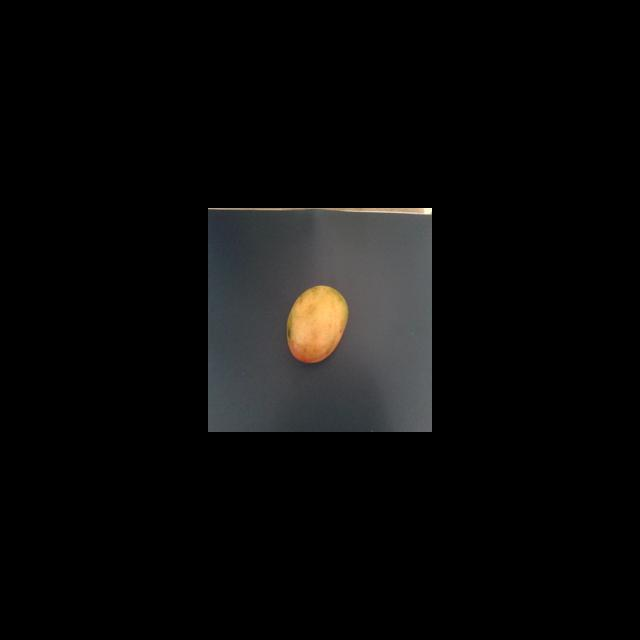Mango: (285, 284, 349, 363)
